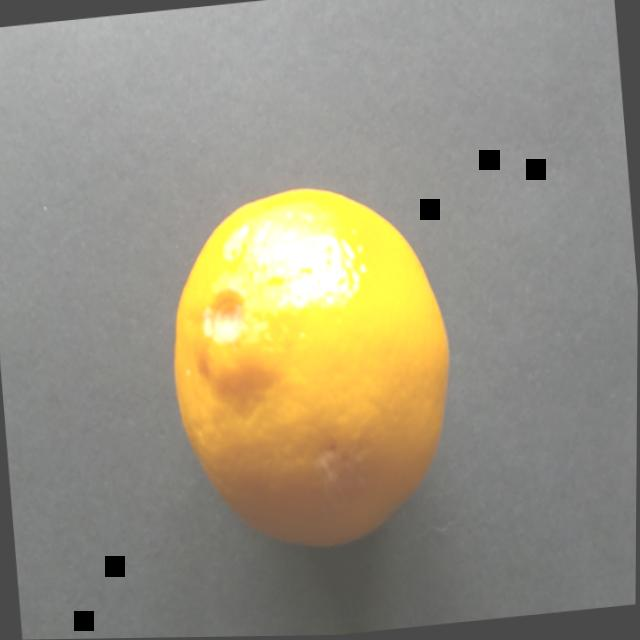Lemon: (138, 137, 495, 594)
